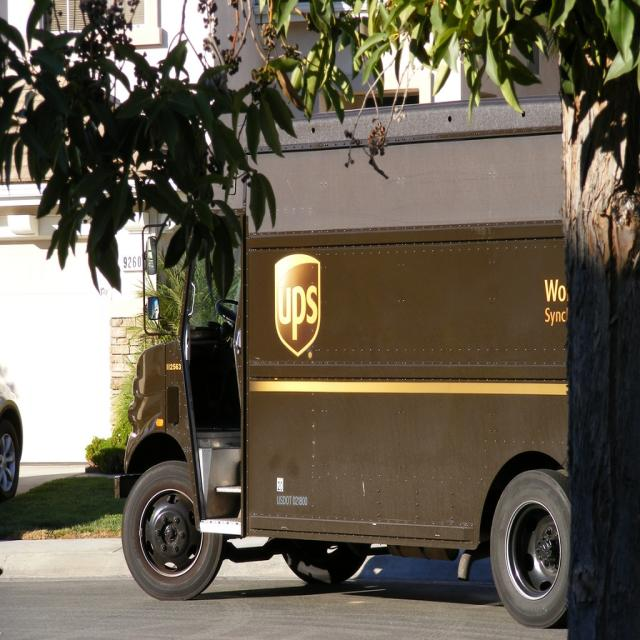ups: (276, 254, 322, 358)
